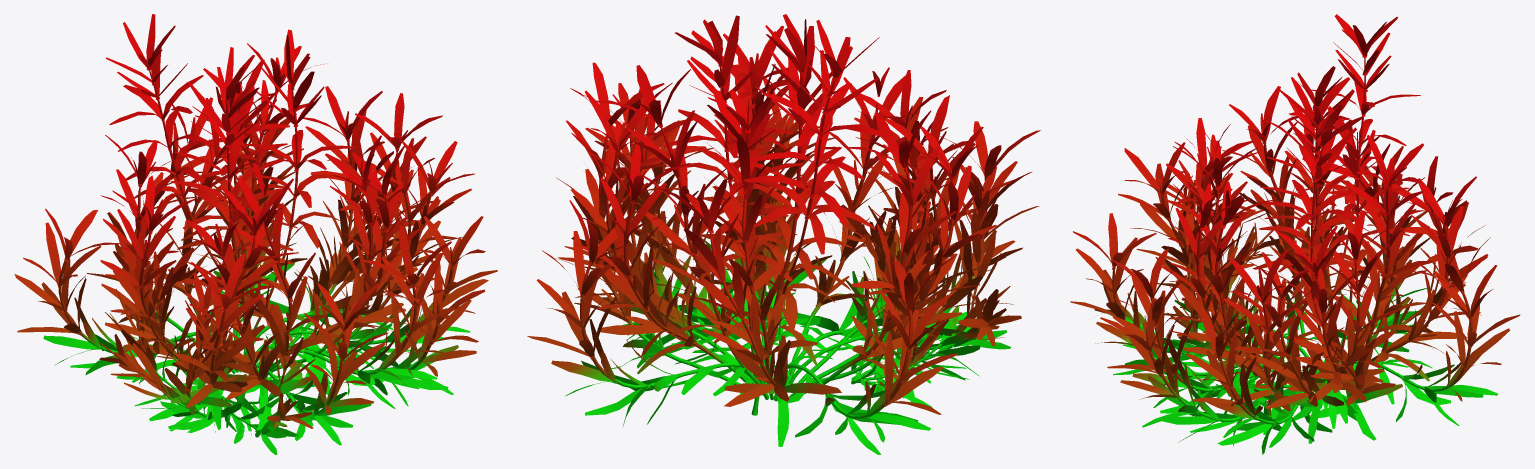
The model's file is Var7_LOD1.fbx.
3 renders of one model, left to right at view 1: azimuth 30°, elevation 25°; view 2: azimuth 150°, elevation 25°; view 3: azimuth 270°, elevation 25°, orthographic. The views are drawn at different scales.
Visible parts, largest first — view 1: _nvd3_Var7_LOD1; view 2: _nvd3_Var7_LOD1; view 3: _nvd3_Var7_LOD1.
Part boxes in pixels (x1,y1,x2,y2): _nvd3_Var7_LOD1: (14,14,497,454); _nvd3_Var7_LOD1: (527,14,1040,454); _nvd3_Var7_LOD1: (1070,14,1520,454).
Bounding box in the file's own units: 35.35 × 32.58 × 36.75.
